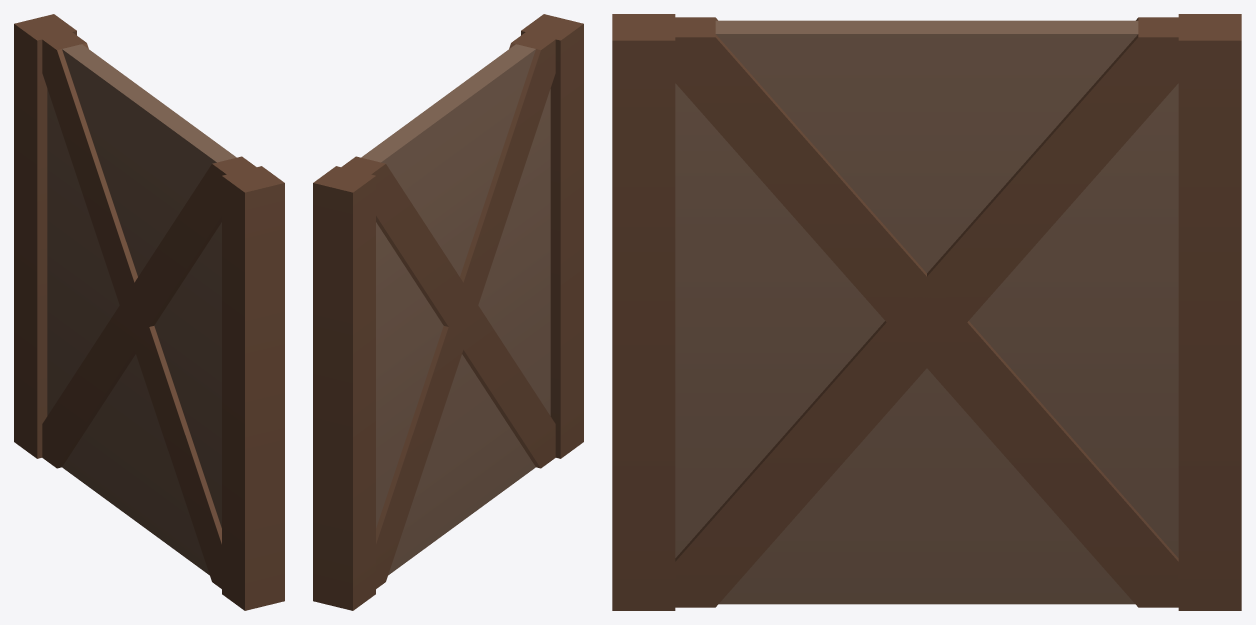
Rendered from wall-wood-detail-cross.glb.
3 renders of one model, left to right at view 1: azimuth 30°, elevation 25°; view 2: azimuth 150°, elevation 25°; view 3: azimuth 270°, elevation 25°, orthographic. The views are drawn at different scales.
Parts seen in each view (by area): view 1: wall-wood-detail-cross; view 2: wall-wood-detail-cross; view 3: wall-wood-detail-cross.
Part boxes in pixels (x1,y1,x2,y2): wall-wood-detail-cross: [14, 14, 284, 610]; wall-wood-detail-cross: [313, 14, 583, 610]; wall-wood-detail-cross: [612, 14, 1241, 610].
Size of the model in its own units: 0.1 by 1 by 1.
Materials: 1 (1 with a texture image).
